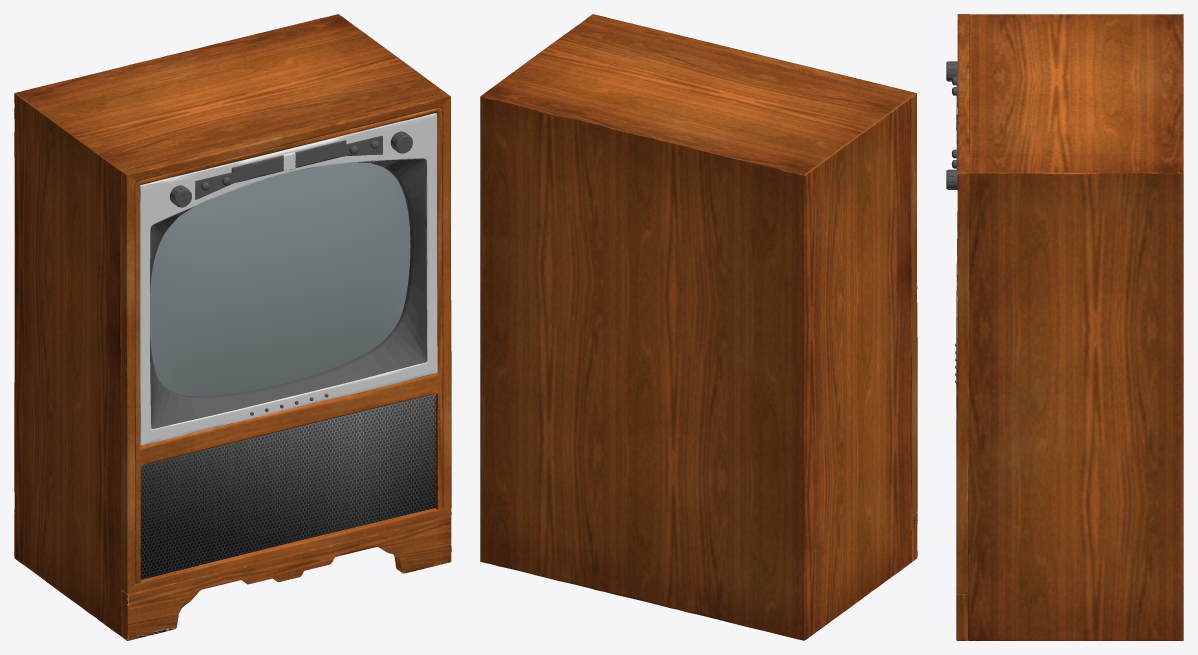
3 views of the same model, side by side, from view 1: azimuth 30°, elevation 25°; view 2: azimuth 150°, elevation 25°; view 3: azimuth 270°, elevation 25° (orthographic).
Visible parts, largest first — view 1: 素白艺术™___suby_cn_vip_16; view 2: 素白艺术™___suby_cn_vip_16; view 3: 素白艺术™___suby_cn_vip_16.
Part boxes in pixels (left/top/right/bottom): 素白艺术™___suby_cn_vip_16: left=14, top=14, right=451, bottom=640; 素白艺术™___suby_cn_vip_16: left=480, top=14, right=917, bottom=640; 素白艺术™___suby_cn_vip_16: left=946, top=14, right=1183, bottom=640.
Bounding box in the file's own units: 72.82 × 99.89 × 45.94.
4 materials, 1 textured.
